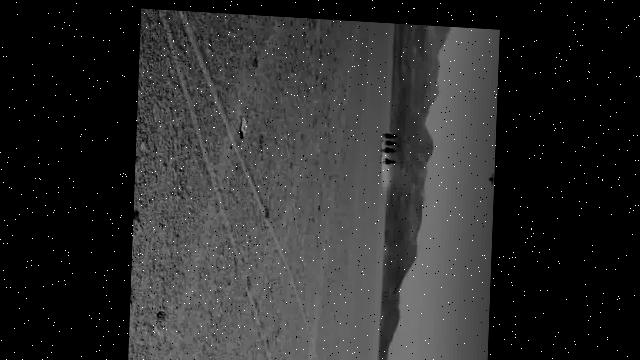drone: (487, 166, 496, 180)
